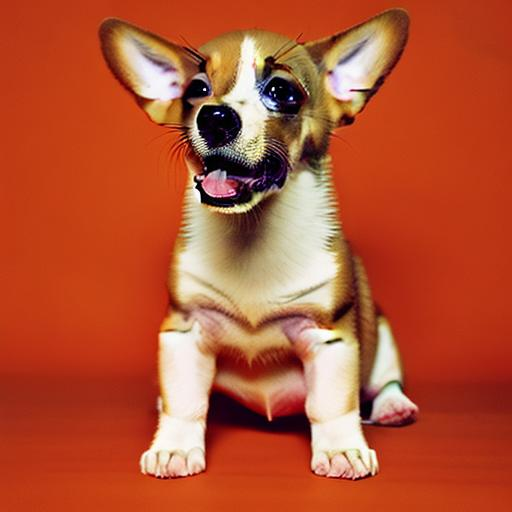eye: (263, 75, 304, 112), (186, 70, 212, 100)
